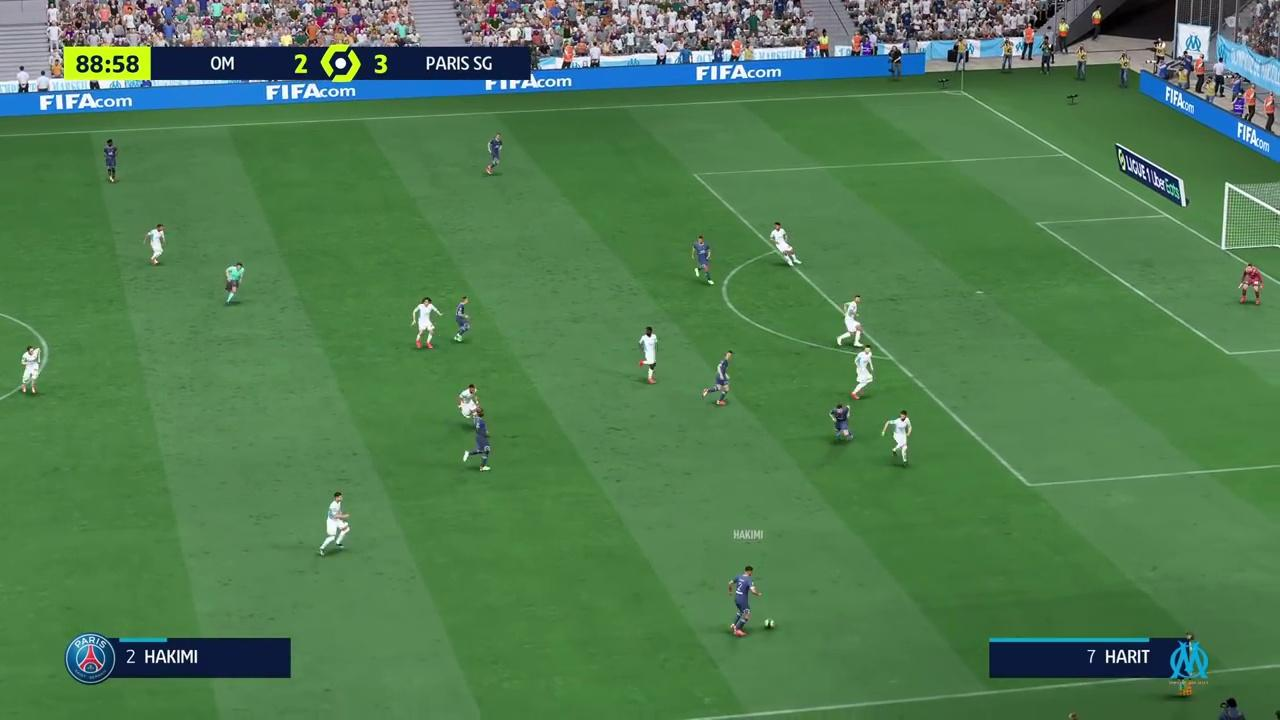scoreboard: (154, 51, 532, 80)
timestamp: (66, 49, 151, 78)
